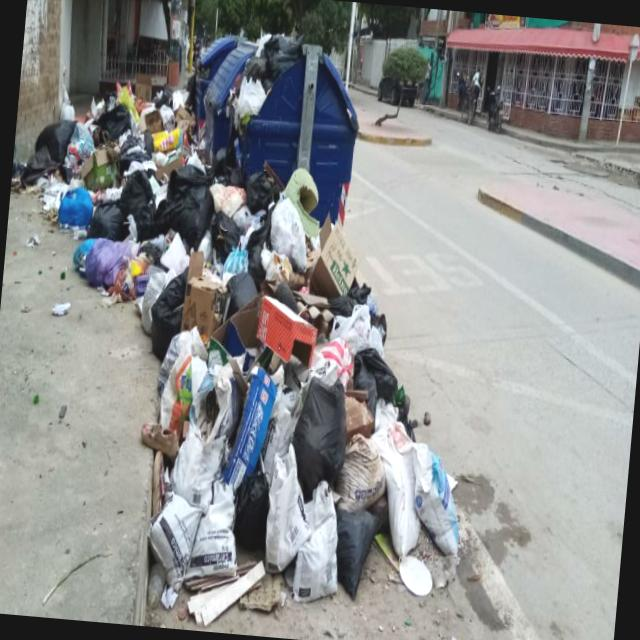garbage: (0, 11, 503, 610)
